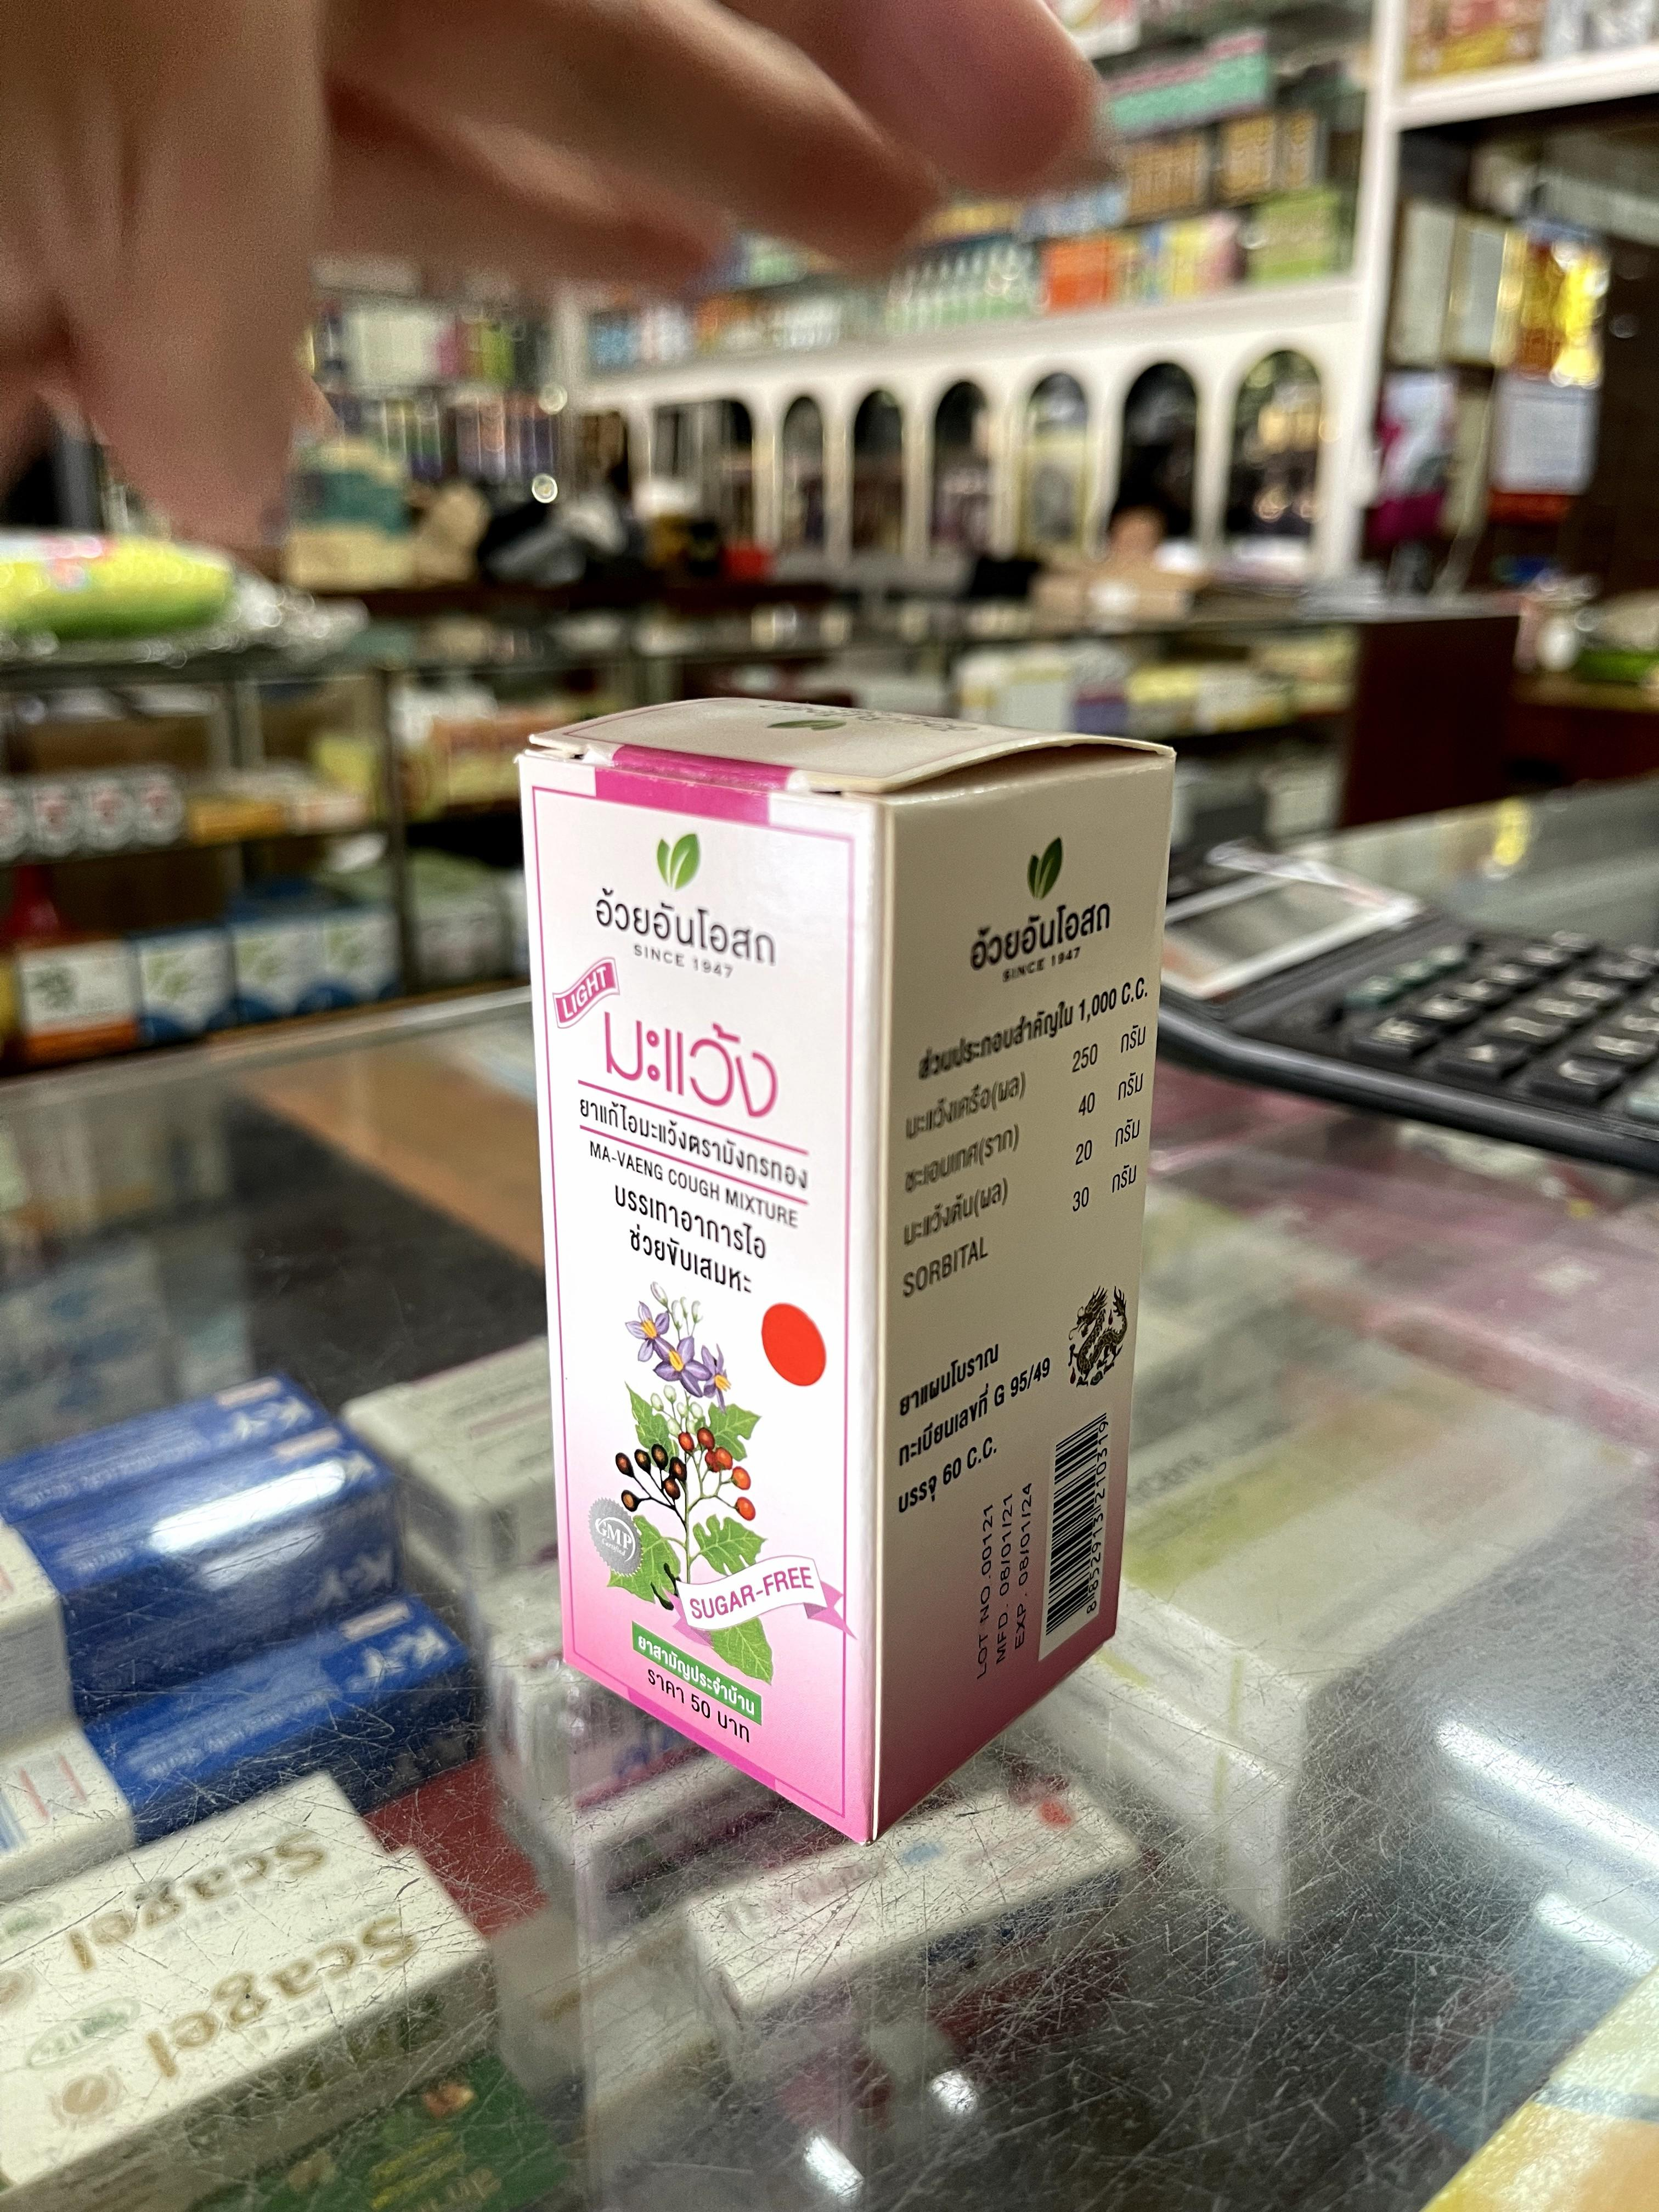Ma-Vaeng_Light: (530, 697, 1175, 1832)
